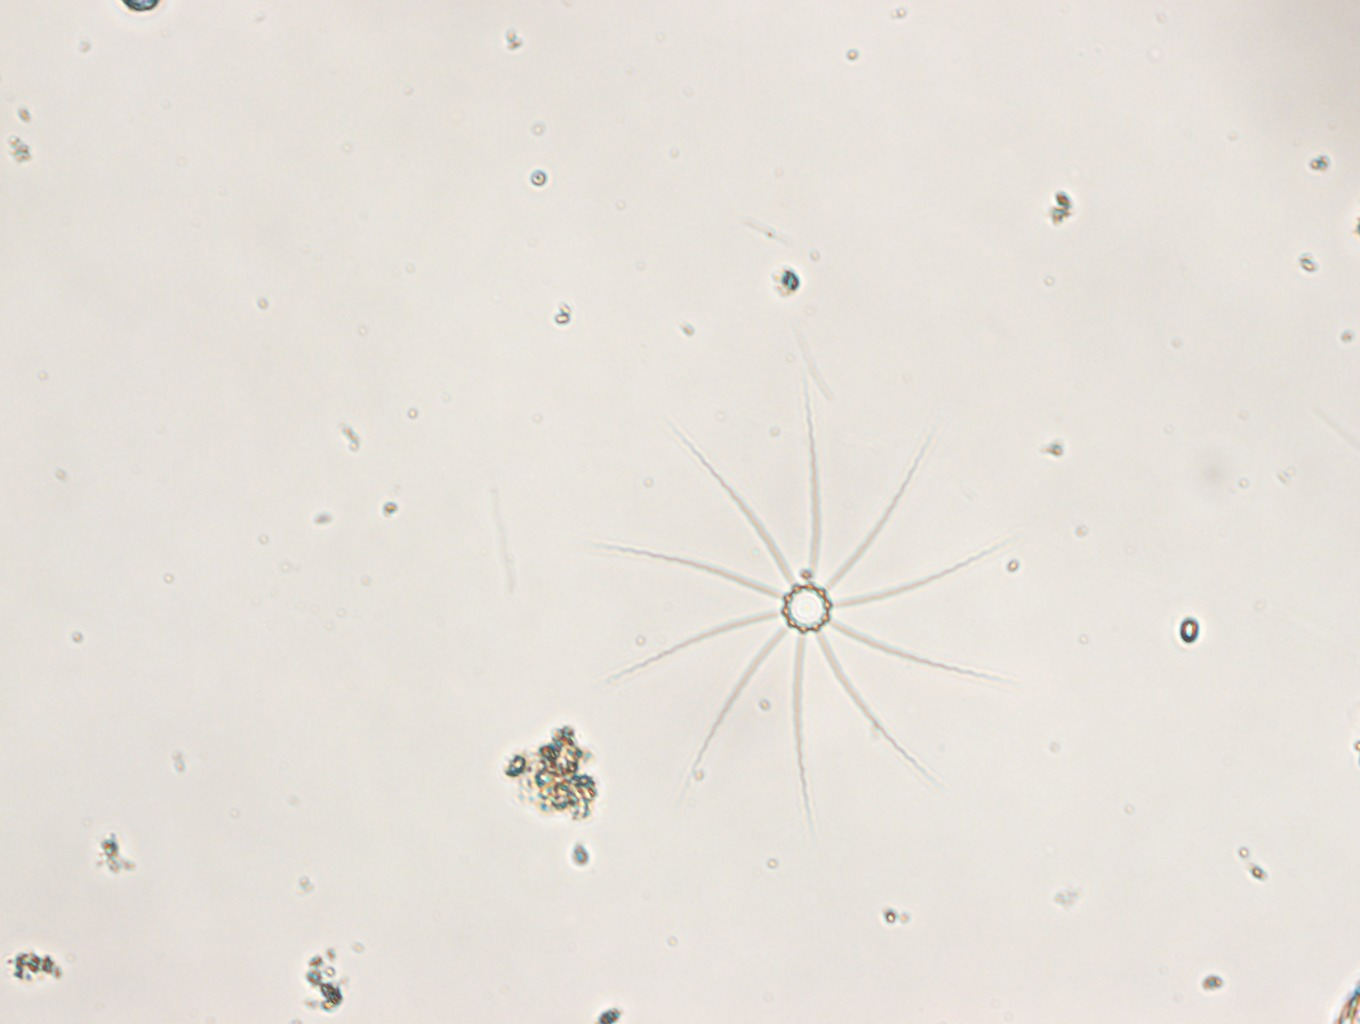bacteriastrum: (599, 376, 1013, 830)
